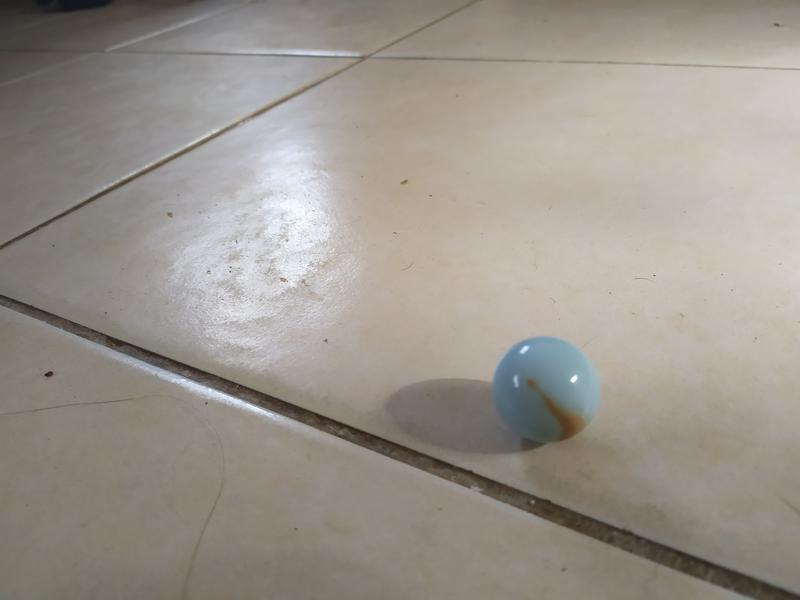Warning: (486, 331, 606, 448)
